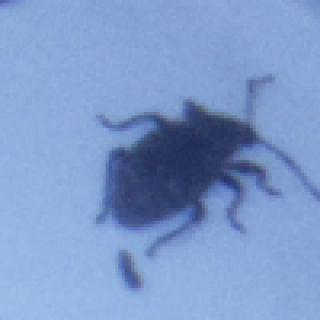bvw: (93, 69, 320, 258)
